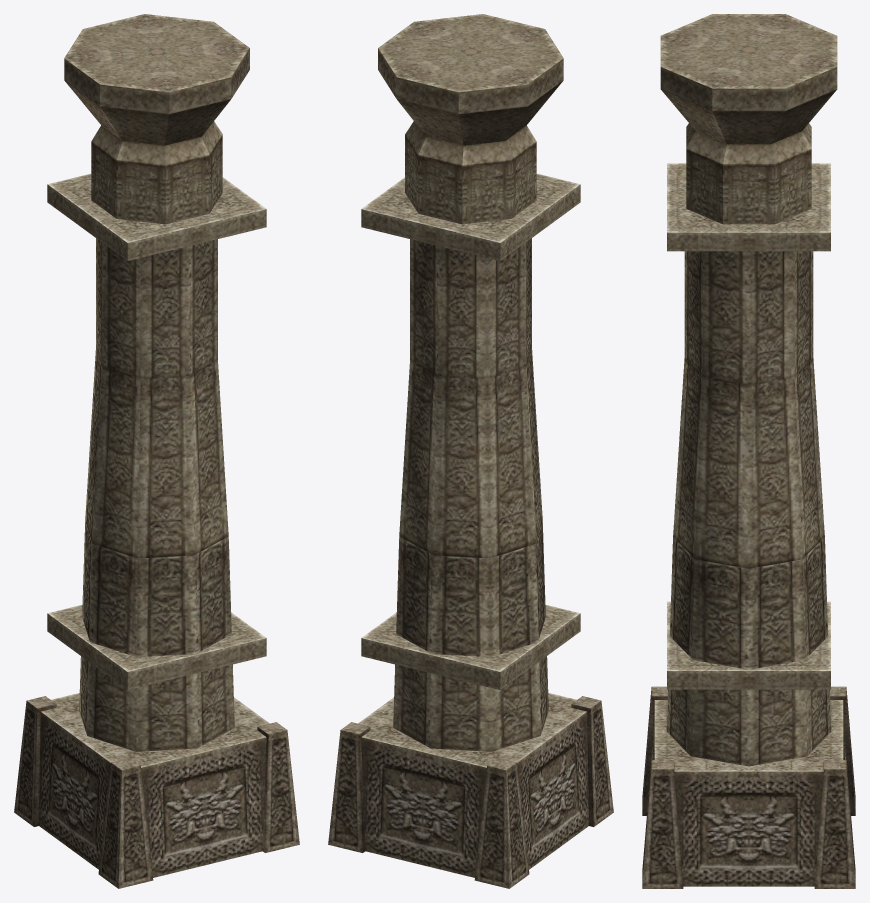
File: general_obj_bigtoewr03.glb
The picture shows the model from 3 angles, left to right: view 1: azimuth 30°, elevation 25°; view 2: azimuth 150°, elevation 25°; view 3: azimuth 270°, elevation 25°; orthographic projection. The views are drawn at different scales.
Parts seen in each view (by area): view 1: Sphere01; view 2: Sphere01; view 3: Sphere01.
Part boxes in pixels (x1=…): Sphere01: x1=14, y1=14, x2=299, y2=888; Sphere01: x1=328, y1=14, x2=613, y2=888; Sphere01: x1=642, y1=14, x2=855, y2=888.
Size of the model in its own units: 5.22 by 21.37 by 5.21.
Materials: 1 (1 with a texture image).
